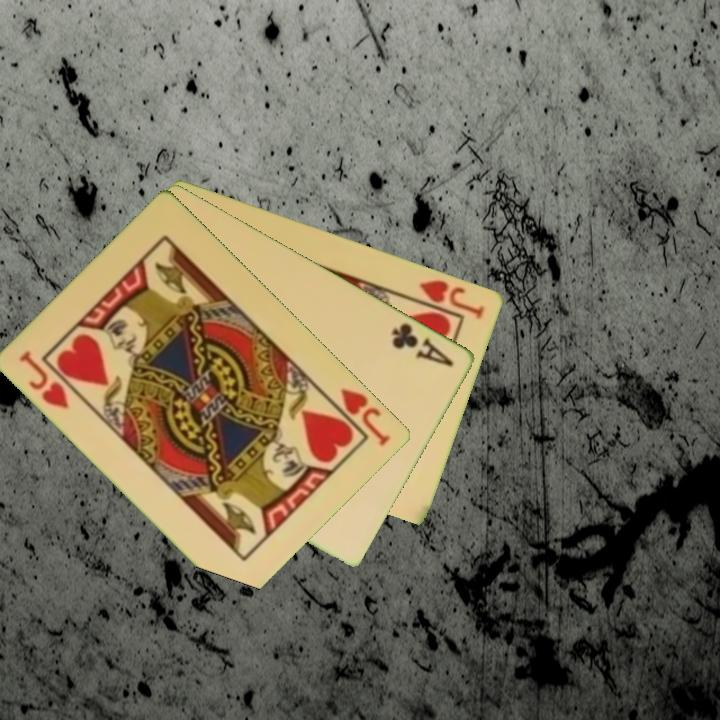Ac: (388, 319, 457, 370)
Jh: (16, 346, 73, 412), (337, 384, 394, 449), (416, 276, 488, 322)
